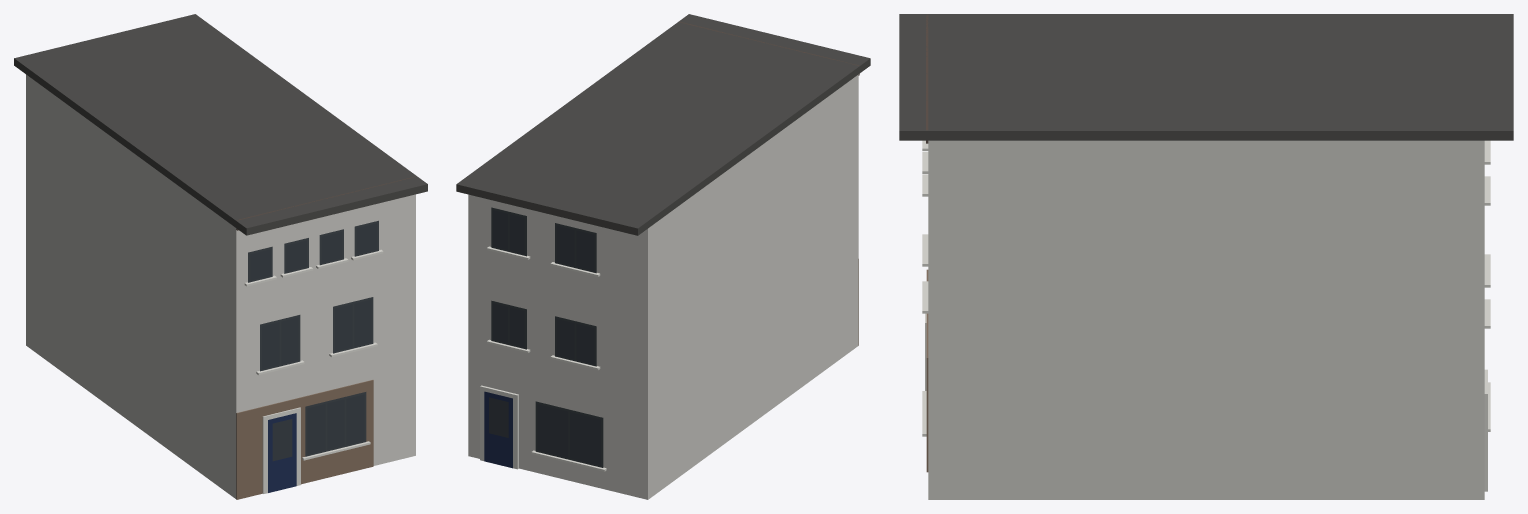
Rendered from nw-nsn-white__white__3__flat__long__solid__f1d0.glb.
The picture shows the model from 3 angles, left to right: view 1: azimuth 30°, elevation 25°; view 2: azimuth 150°, elevation 25°; view 3: azimuth 270°, elevation 25°; orthographic projection. The views are drawn at different scales.
Visible parts, largest first — view 1: nw-nsn-white__white__3__flat__long__solid__f1d0; view 2: nw-nsn-white__white__3__flat__long__solid__f1d0; view 3: nw-nsn-white__white__3__flat__long__solid__f1d0.
Part boxes in pixels (x1,y1,x2,y2): nw-nsn-white__white__3__flat__long__solid__f1d0: [14, 14, 427, 499]; nw-nsn-white__white__3__flat__long__solid__f1d0: [456, 14, 870, 499]; nw-nsn-white__white__3__flat__long__solid__f1d0: [899, 14, 1513, 499].
Size of the model in its own units: 5.71 by 8.4 by 12.66.
